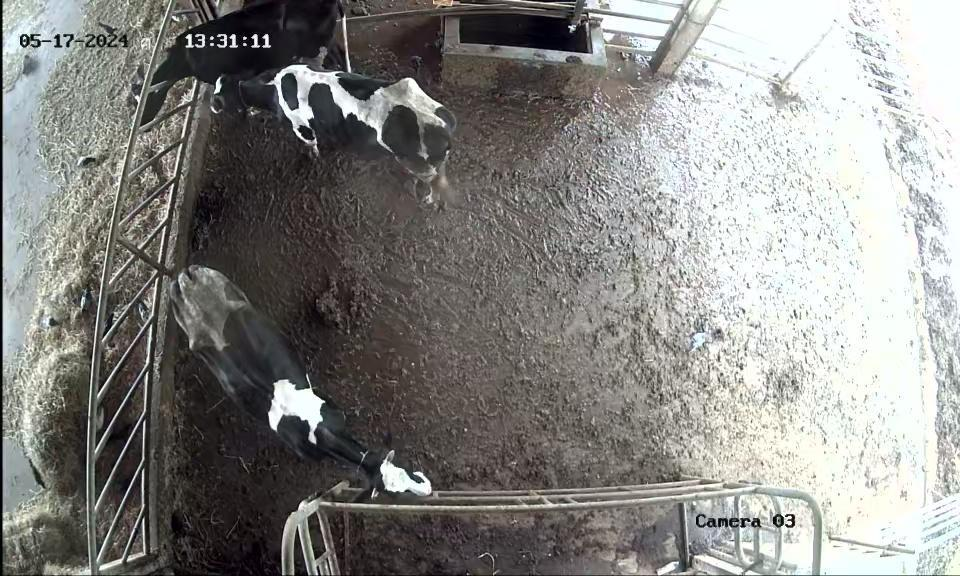eat: (109, 44, 194, 133)
stand: (157, 255, 439, 501), (203, 63, 461, 204)
